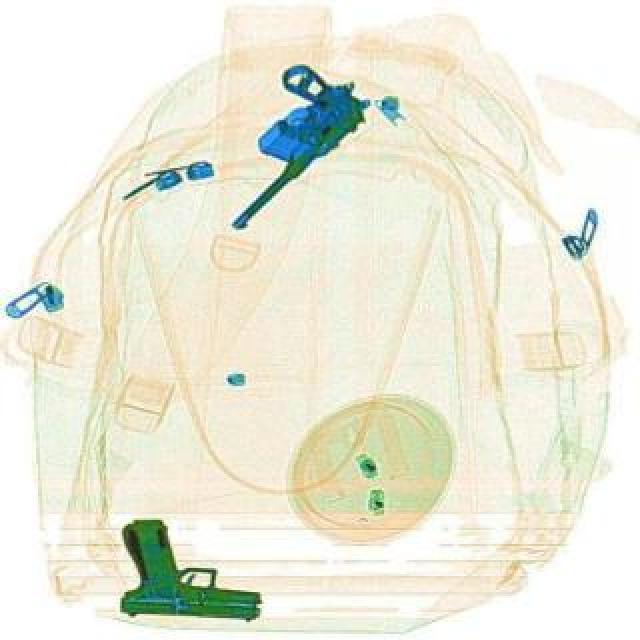gun: (174, 46, 378, 242), (112, 518, 262, 622)
